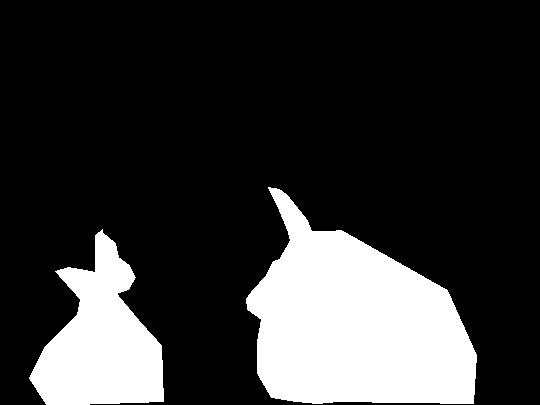Fire: (256, 187, 479, 400)
